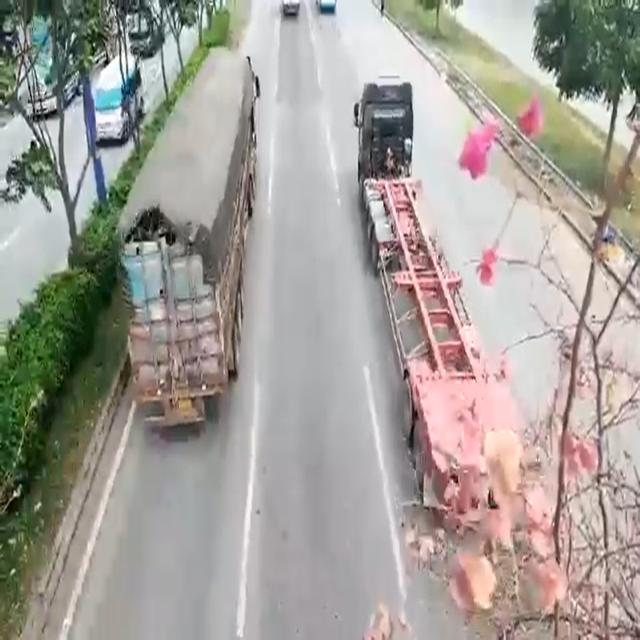truck: (355, 82, 520, 496), (138, 54, 242, 403)
